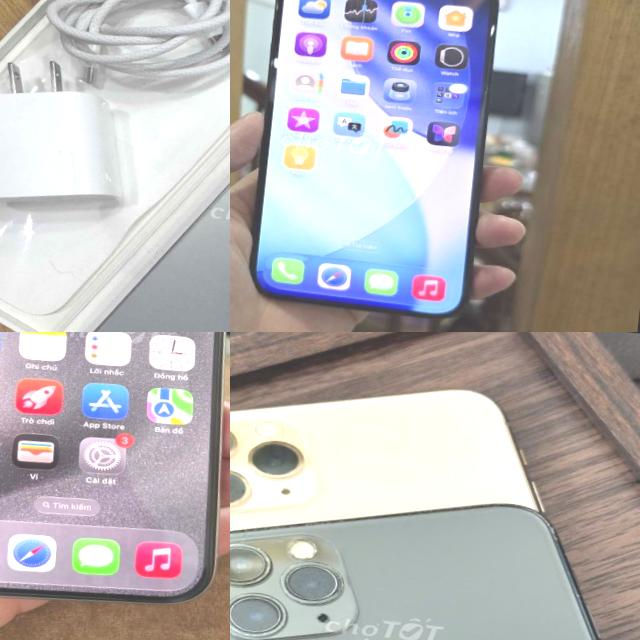scratch: (486, 20, 500, 40)
